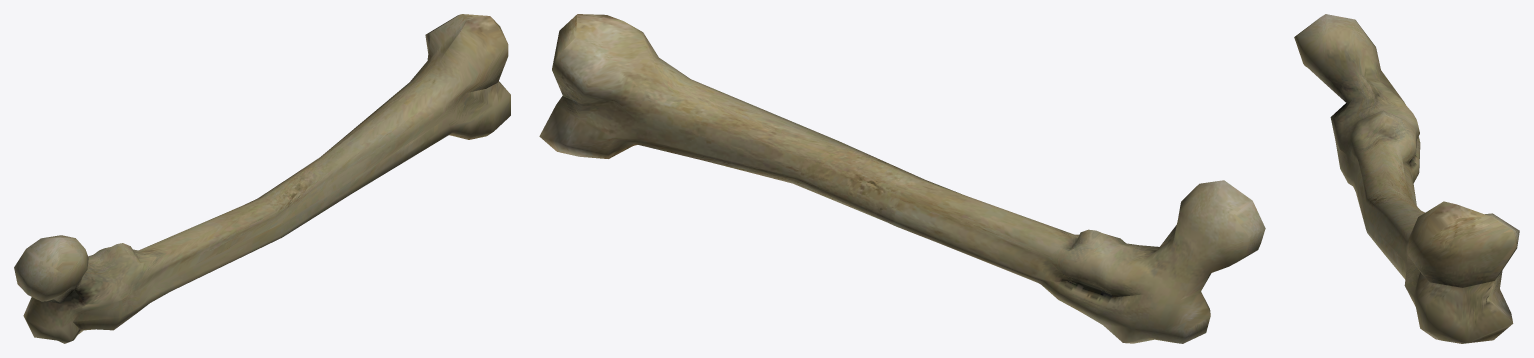
Rendered from human_bone.dae.
3 views of the same model, side by side, from view 1: azimuth 30°, elevation 25°; view 2: azimuth 150°, elevation 25°; view 3: azimuth 270°, elevation 25° (orthographic). The views are drawn at different scales.
Visible parts, largest first — view 1: polySurface1; view 2: polySurface1; view 3: polySurface1.
Part boxes in pixels (<box>): polySurface1: <box>14,14,510,343</box>; polySurface1: <box>539,14,1265,343</box>; polySurface1: <box>1294,14,1519,343</box>.
Size of the model in its own units: 0.6789 by 0.2313 by 0.2135.
